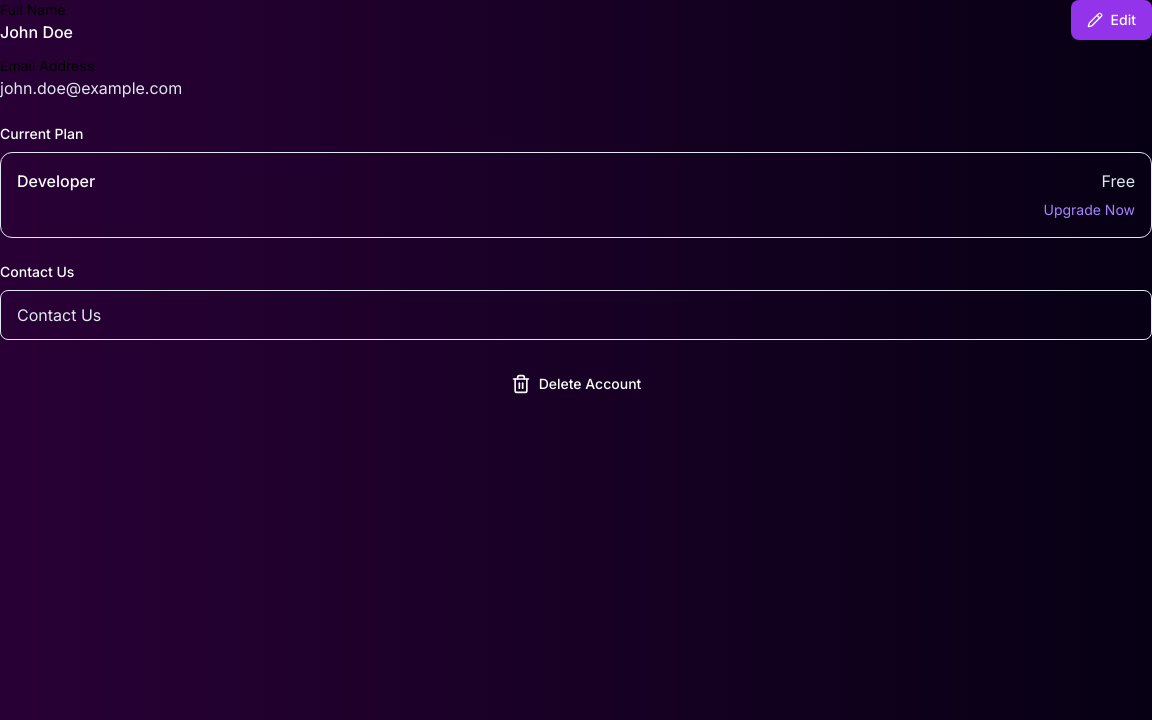
it: ProfileSettings Component › should open Edit modal when Edit is clicked
This screenshot has width=1152, height=720.
Click the button "Edit".
click(1111, 20)  # box [1071, 0, 1151, 40]
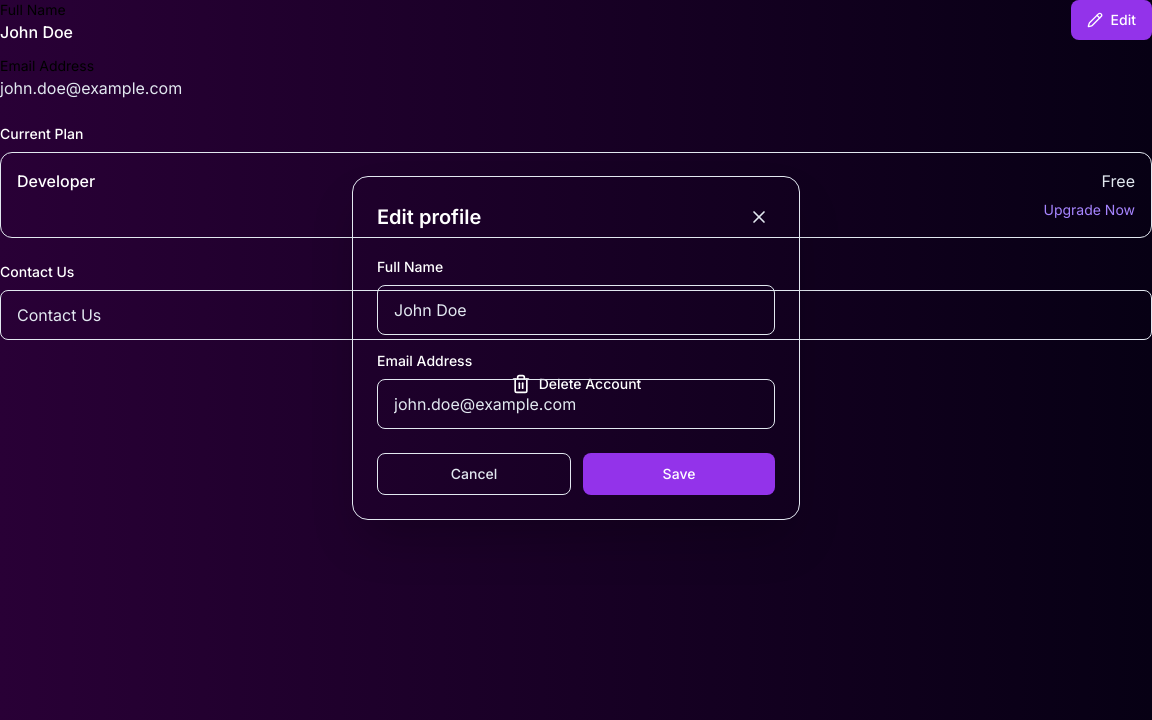
Check: the dialog is shown, box [352, 176, 800, 520]
Check: the field labelled "Full Name" is shown, box [377, 285, 775, 335]
Check: the field labelled "Email Address" is shown, box [377, 379, 775, 429]
